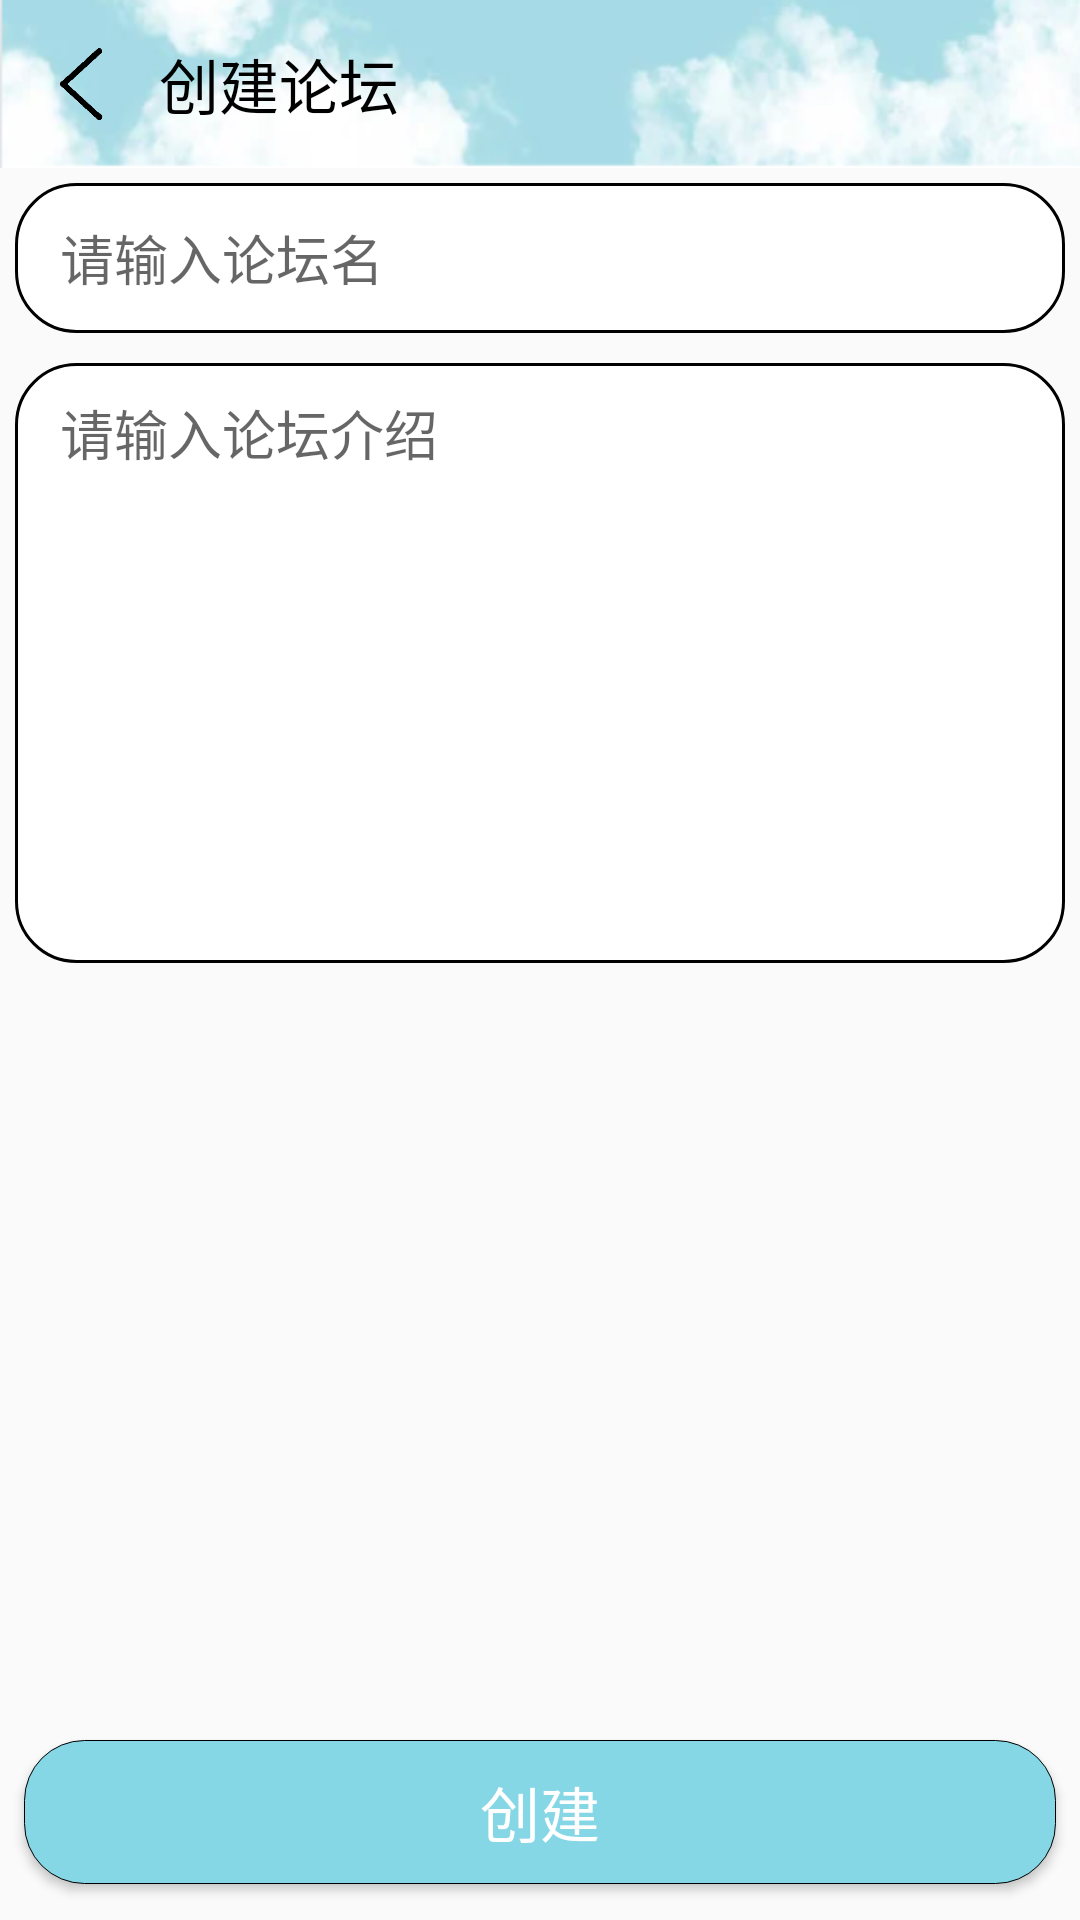

Icons on this 1080*1920 Android screen, each with the point to tap as (x=x, y=y):
return: (x=81, y=84)
